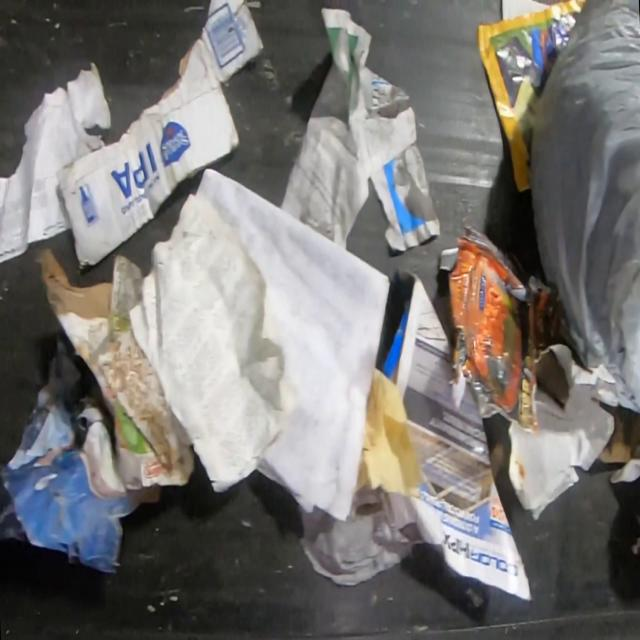cardboard: (55, 0, 266, 268), (37, 246, 196, 495), (594, 399, 640, 464)
soft_plastic: (530, 0, 640, 415), (438, 224, 563, 435)
